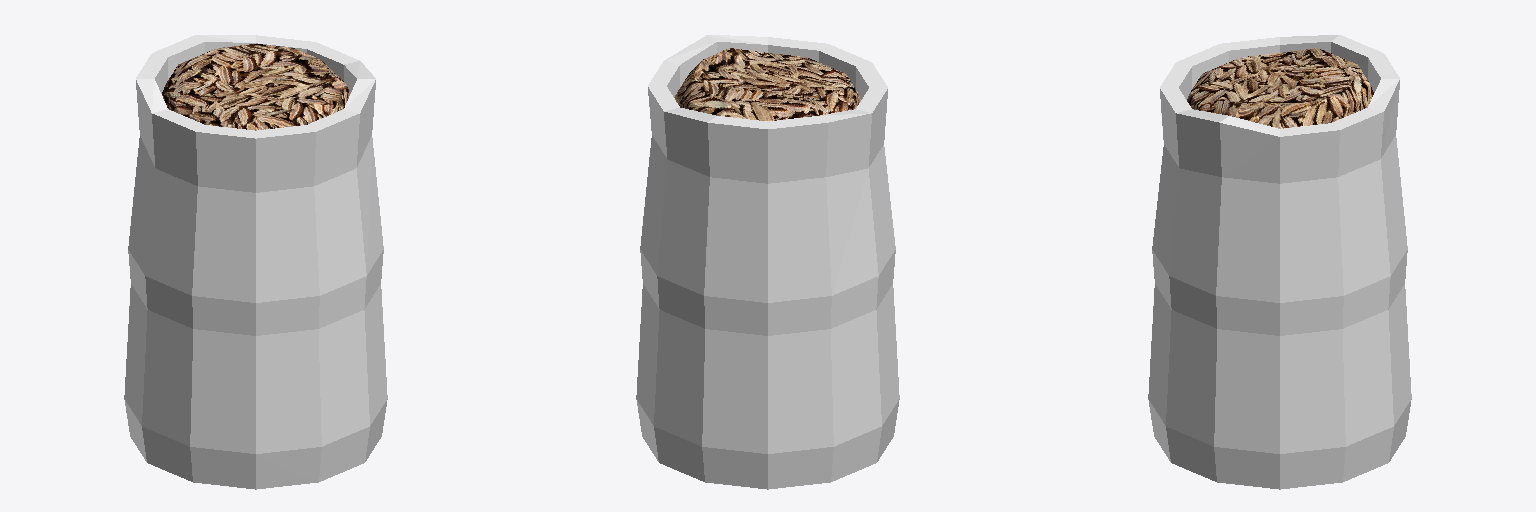
3 views of the same model, side by side, from view 1: azimuth 30°, elevation 25°; view 2: azimuth 150°, elevation 25°; view 3: azimuth 270°, elevation 25° (orthographic).
Parts seen in each view (by area): view 1: Form10; view 2: Form10; view 3: Form10.
Boxes of the visible parts, x1,y1,x2,y2 form: Form10: [124, 35, 387, 489]; Form10: [636, 35, 899, 489]; Form10: [1148, 35, 1411, 489].
Bounding box in the file's own units: 2.49 × 3.76 × 2.49.
Materials: 2 (1 with a texture image).